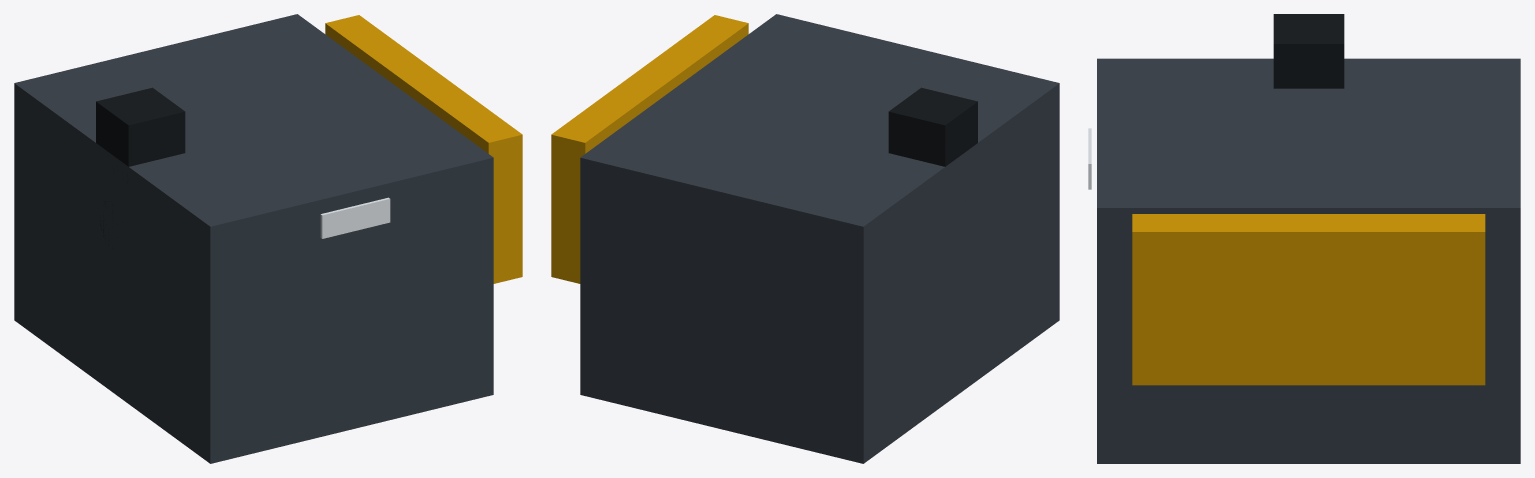
3 renders of one model, left to right at view 1: azimuth 30°, elevation 25°; view 2: azimuth 150°, elevation 25°; view 3: azimuth 270°, elevation 25°, orthographic. The views are drawn at different scales.
Visible parts, largest first — view 1: body, pusher, valve, label:pusher; view 2: body, pusher, valve; view 3: body, pusher, valve.
Part boxes in pixels (x1,y1,x2,y2): body: (14,14,493,463); pusher: (325,15,522,283); valve: (96,87,185,183); label:pusher: (320,197,390,238); body: (580,14,1059,463); pusher: (551,15,748,283); valve: (888,87,977,166); body: (1097,58,1520,463); pusher: (1132,214,1485,385); valve: (1273,14,1344,88).
Bounding box in the file's own units: 0.58 × 0.47 × 0.6125.
